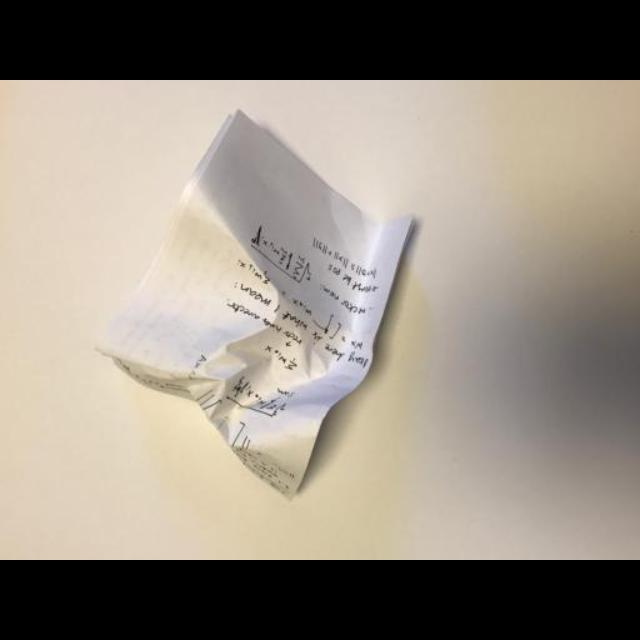papel: (91, 110, 411, 500)
